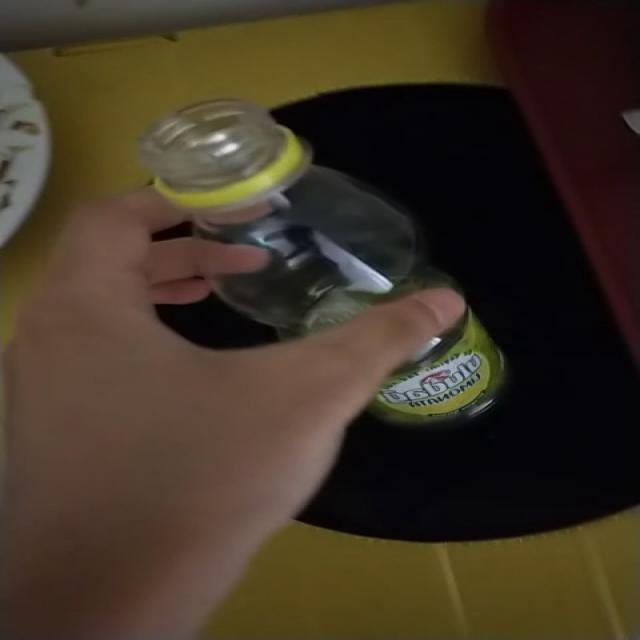plastic: (137, 99, 453, 338), (371, 312, 505, 425)
